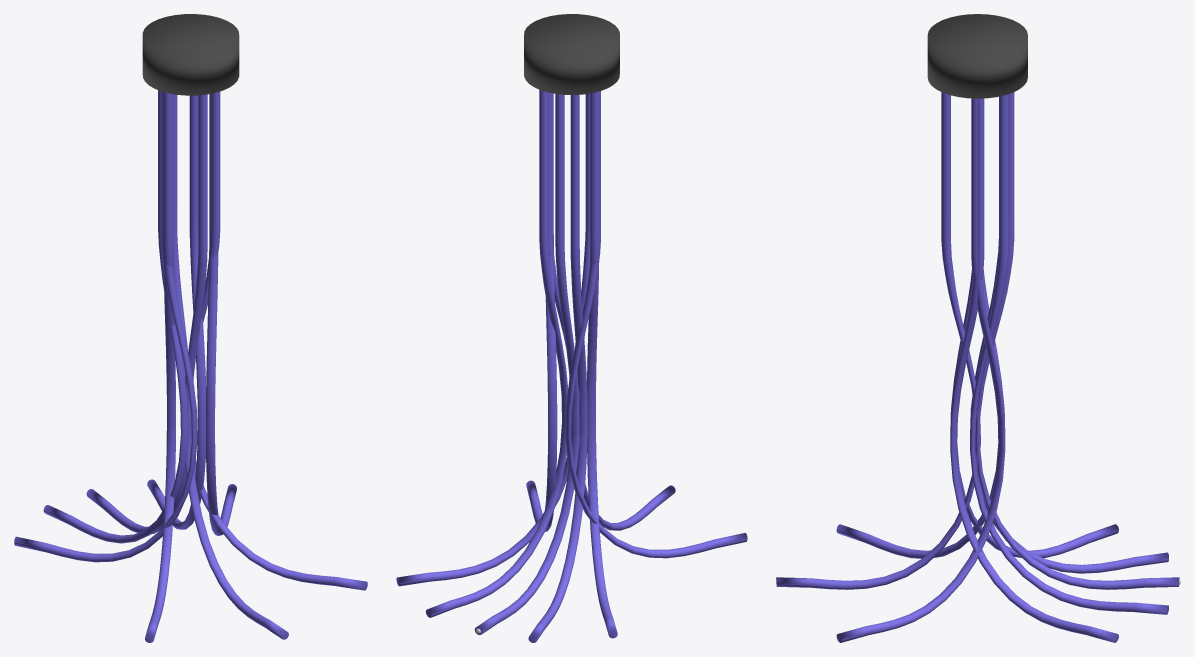
The model's file is SensoryFibreOpticLight.fbx.
The picture shows the model from 3 angles, left to right: view 1: azimuth 30°, elevation 25°; view 2: azimuth 150°, elevation 25°; view 3: azimuth 270°, elevation 25°; orthographic projection. The views are drawn at different scales.
Visible parts, largest first — view 1: Fibre Optic Strand 2, Fibre optic Strand 3, FIbre Optic Top, Fibre Optic Strand 1; view 2: Fibre Optic Strand 2, Fibre optic Strand 3, Fibre Optic Strand 1, FIbre Optic Top; view 3: Fibre Optic Strand 2, Fibre Optic Strand 1, FIbre Optic Top, Fibre optic Strand 3.
Boxes of the visible parts, x1,y1,x2,y2 form: Fibre Optic Strand 2: [14, 91, 367, 642]; Fibre optic Strand 3: [43, 90, 206, 543]; FIbre Optic Top: [142, 14, 239, 95]; Fibre Optic Strand 1: [86, 94, 288, 639]; Fibre Optic Strand 2: [396, 91, 747, 638]; Fibre optic Strand 3: [425, 90, 587, 642]; Fibre Optic Strand 1: [474, 93, 675, 634]; FIbre Optic Top: [524, 14, 619, 94]; Fibre Optic Strand 2: [836, 98, 1118, 642]; Fibre Optic Strand 1: [776, 92, 1179, 589]; FIbre Optic Top: [927, 14, 1027, 98]; Fibre optic Strand 3: [970, 94, 1168, 614].
Bounding box in the file's own units: 166 × 381 × 251.
